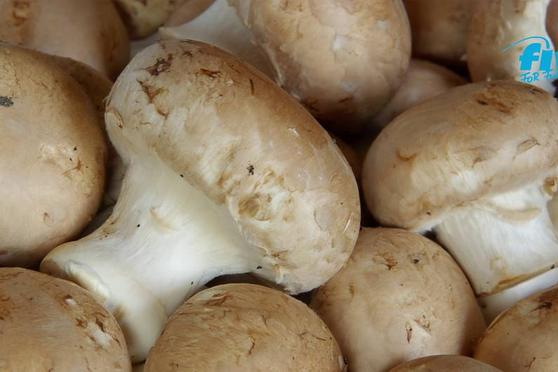champignon: (75, 34, 369, 349), (357, 82, 558, 301)
